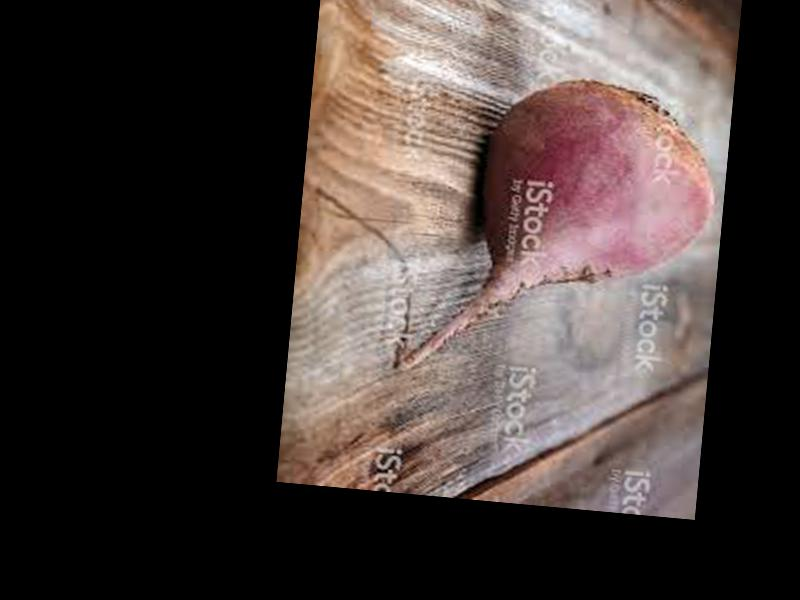Beet: (396, 66, 724, 399)
